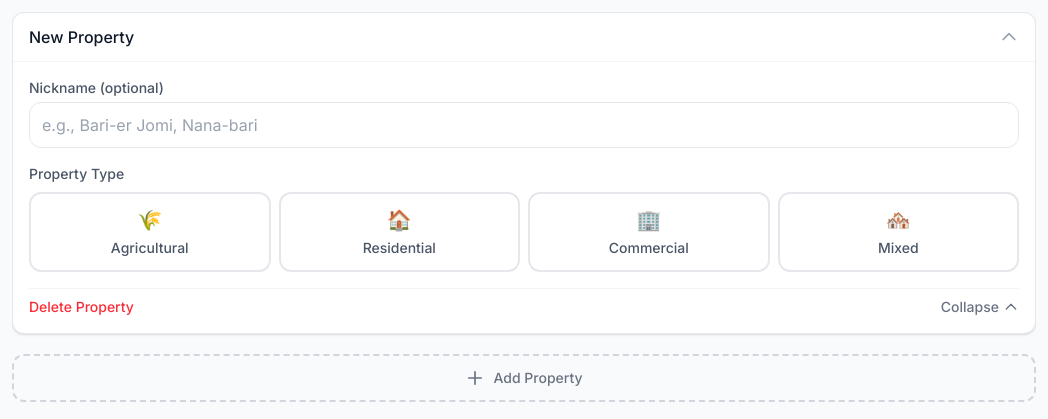
Test: PROP-02: Multi-property entry › delete removes property from list
The width and height of the screenshot is (1048, 419).
Click the button "Delete Property" at {"x": 81, "y": 307}, box [29, 297, 134, 317]
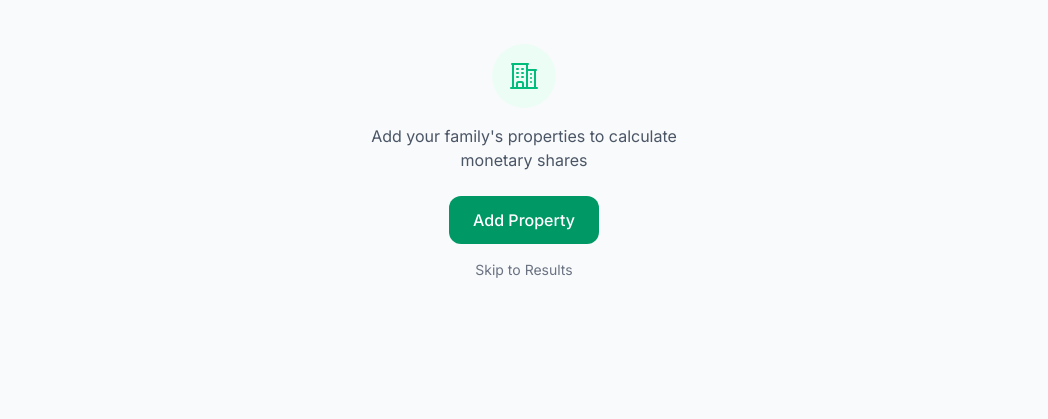
Expected: the text "Add your family's properties to calculate monetary shares" is shown, [364, 124, 684, 172]
